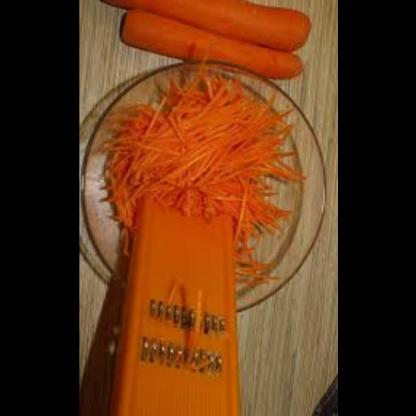carrot: (123, 83, 289, 255), (114, 8, 310, 92), (105, 0, 318, 53)
